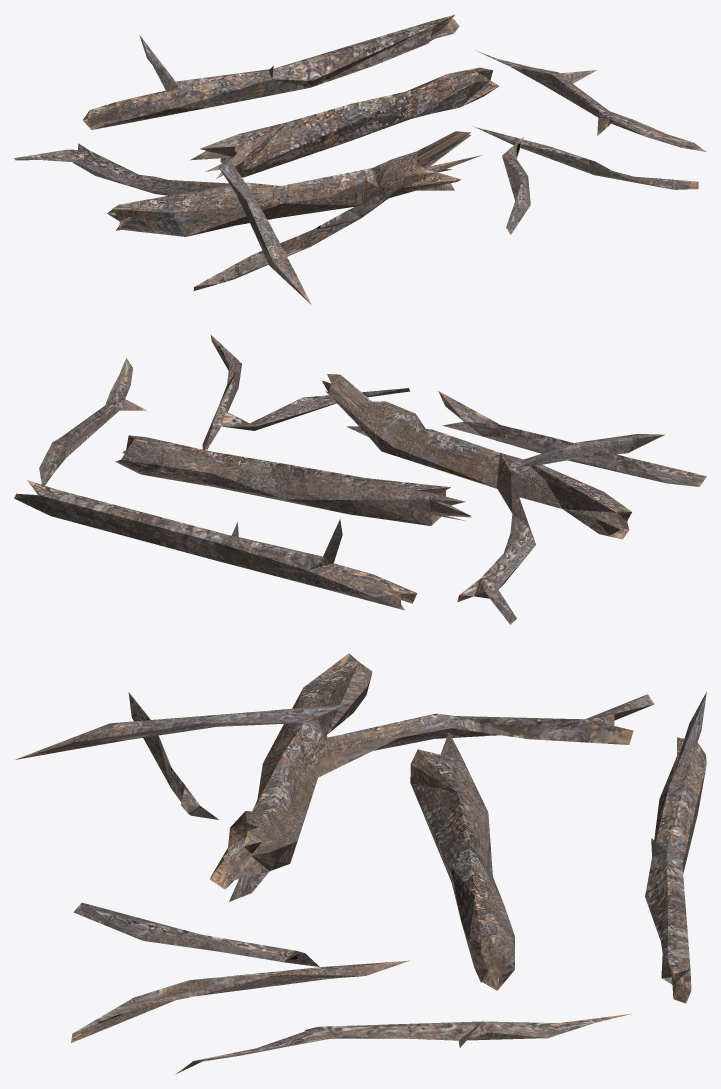
The model's file is sticks.glb.
3 renders of one model, top to bottom at view 1: azimuth 30°, elevation 25°; view 2: azimuth 150°, elevation 25°; view 3: azimuth 270°, elevation 25°, orthographic. The views are drawn at different scales.
Visible parts, largest first — view 1: output_unwrapped; view 2: output_unwrapped; view 3: output_unwrapped.
Boxes of the visible parts, x1,y1,x2,y2 form: output_unwrapped: (14,14,706,304); output_unwrapped: (14,334,706,624); output_unwrapped: (15,653,706,1074).
Bounding box in the file's own units: 1.9 × 0.2707 × 1.47.
Materials: 1 (1 with a texture image).
